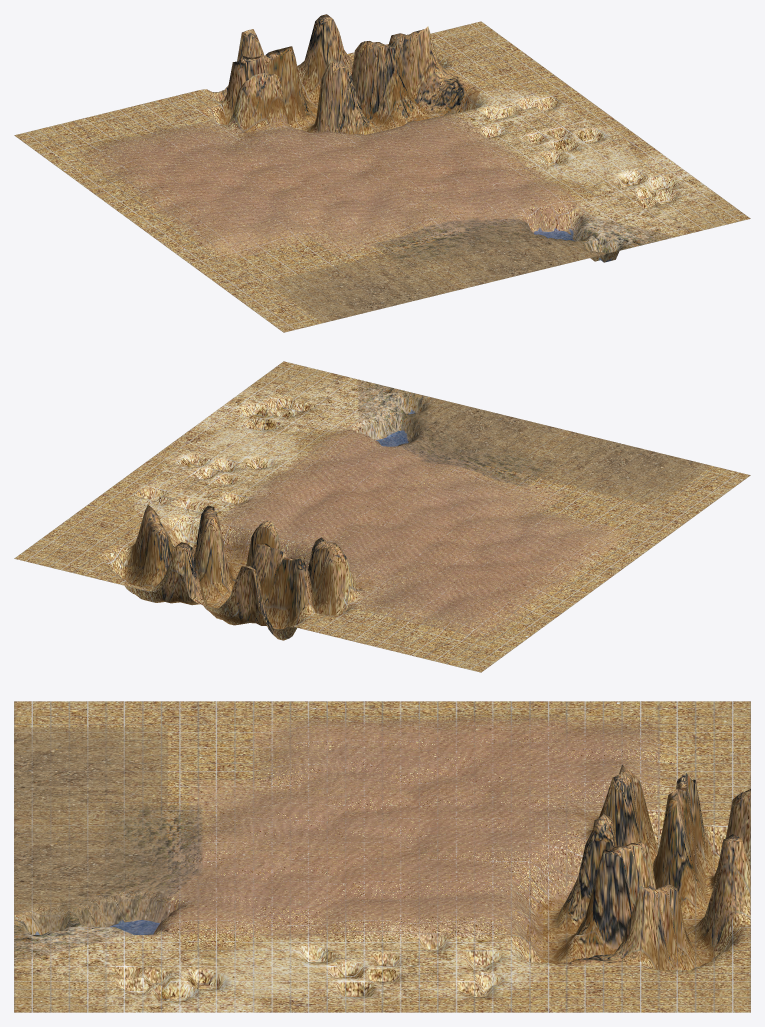
Rendered from desertlevel.fbx.
3 renders of one model, top to bottom at view 1: azimuth 30°, elevation 25°; view 2: azimuth 150°, elevation 25°; view 3: azimuth 270°, elevation 25°, orthographic. The views are drawn at different scales.
Parts seen in each view (by area): view 1: pasted__pPlane1; view 2: pasted__pPlane1; view 3: pasted__pPlane1.
Boxes of the visible parts, x1,y1,x2,y2 form: pasted__pPlane1: [14, 14, 750, 332]; pasted__pPlane1: [14, 361, 750, 672]; pasted__pPlane1: [14, 701, 750, 1012].
Size of the model in its own units: 1108 by 161 by 1108.
Materials: 1 (1 with a texture image).
